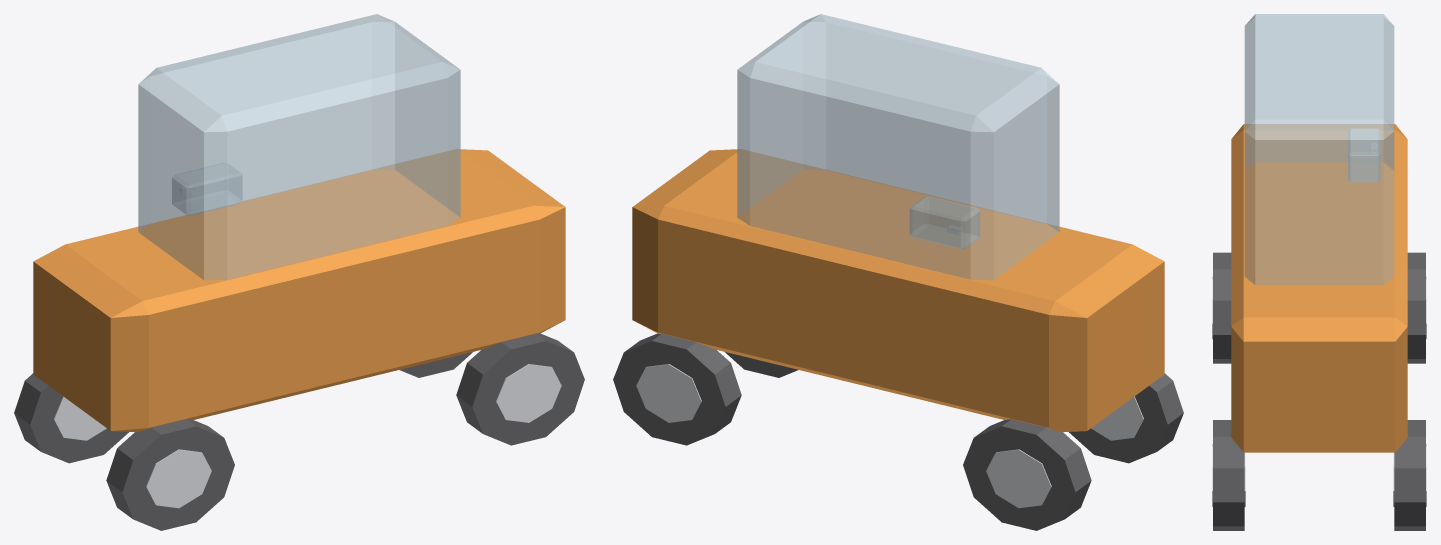
File: b07_articulating_boom_lift.glb
The picture shows the model from 3 angles, left to right: view 1: azimuth 30°, elevation 25°; view 2: azimuth 150°, elevation 25°; view 3: azimuth 270°, elevation 25°; orthographic projection.
Visible parts, largest first — view 1: b07_articulating_boom_lift; view 2: b07_articulating_boom_lift; view 3: b07_articulating_boom_lift.
Part boxes in pixels (left/top/right/bottom): b07_articulating_boom_lift: left=14, top=14, right=584, bottom=530; b07_articulating_boom_lift: left=613, top=14, right=1183, bottom=530; b07_articulating_boom_lift: left=1212, top=14, right=1426, bottom=530.
Size of the model in its own units: 5.7 by 4.47 by 2.34.
